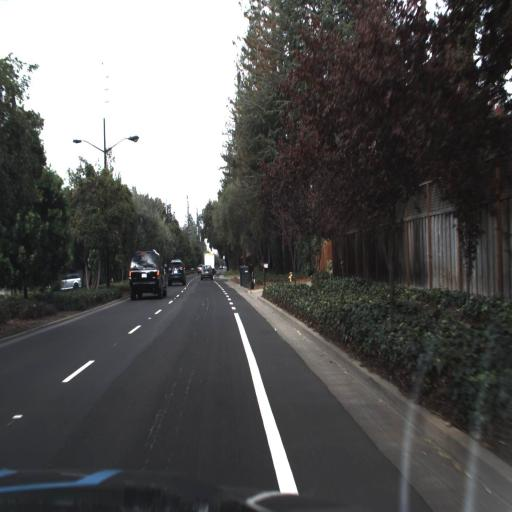car: (124, 244, 167, 305), (168, 255, 190, 289), (198, 260, 213, 283), (203, 253, 216, 273)
truck: (202, 248, 218, 280)
